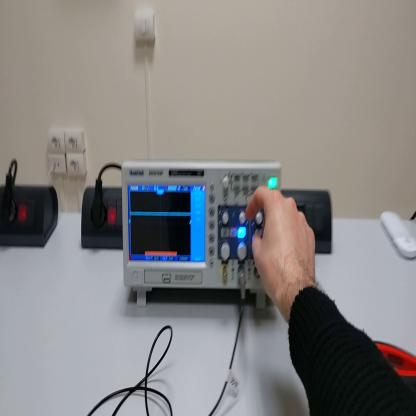hand: (249, 185, 317, 310)
oscilloscope: (122, 155, 286, 309)
pliers: (373, 335, 416, 384)
socket: (1, 183, 61, 251), (79, 186, 123, 250)
